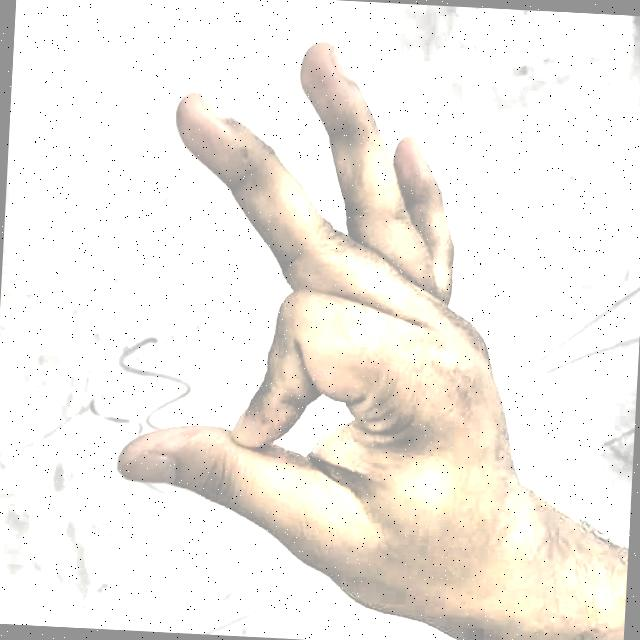Uo: (58, 7, 601, 640)
